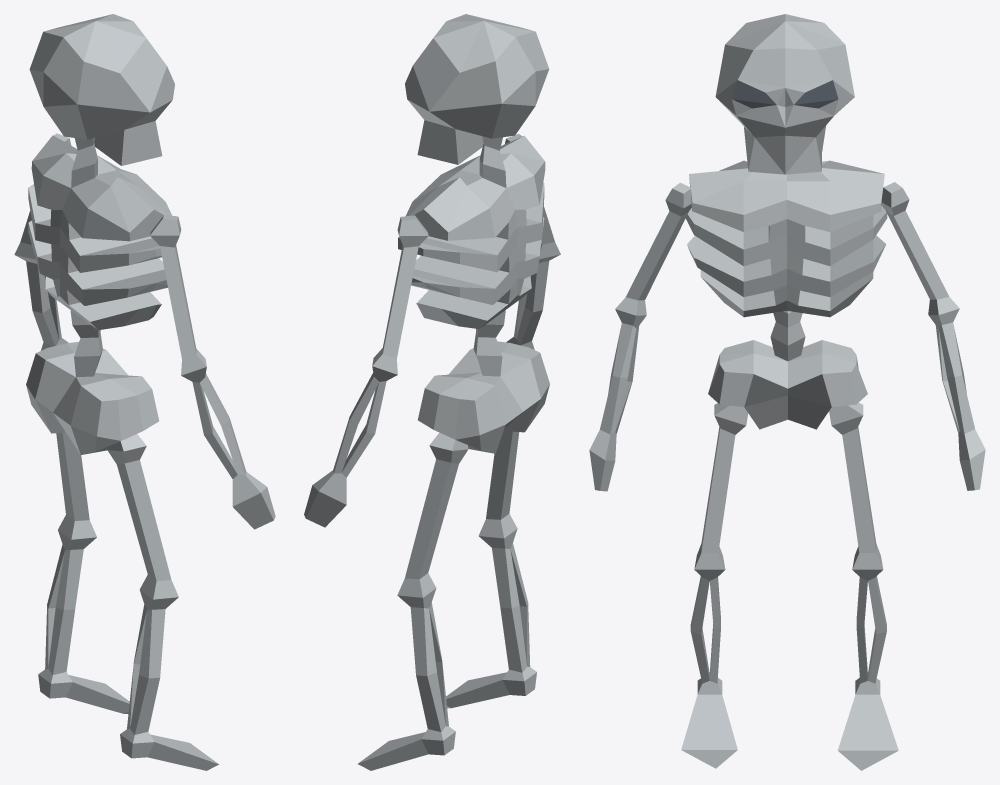
The model's file is Skeleton01.fbx.
The picture shows the model from 3 angles, left to right: view 1: azimuth 30°, elevation 25°; view 2: azimuth 150°, elevation 25°; view 3: azimuth 270°, elevation 25°; orthographic projection. The views are drawn at different scales.
Visible parts, largest first — view 1: Chest, Skull, Skeleton01, Rleg, Lleg, Rarm, Larm; view 2: Chest, Skull, Skeleton01, Lleg, Rleg, Larm, Rarm; view 3: Chest, Skull, Skeleton01, Lleg, Rleg, Larm, Rarm.
Boxes of the visible parts, <box> form: Chest: <box>28,135,171,330</box>; Skull: <box>29,14,174,165</box>; Skeleton01: <box>26,310,159,454</box>; Rleg: <box>107,434,218,770</box>; Lleg: <box>38,432,129,713</box>; Rarm: <box>150,215,275,529</box>; Larm: <box>14,133,71,350</box>; Chest: <box>398,135,545,329</box>; Skull: <box>405,14,549,164</box>; Skeleton01: <box>418,310,549,453</box>; Lleg: <box>358,432,468,770</box>; Rleg: <box>446,431,536,708</box>; Larm: <box>304,215,428,527</box>; Rarm: <box>505,134,560,349</box>; Chest: <box>685,160,887,317</box>; Skull: <box>715,14,854,174</box>; Skeleton01: <box>708,311,867,429</box>; Lleg: <box>829,402,898,770</box>; Rleg: <box>681,403,748,768</box>; Larm: <box>881,182,985,490</box>; Rarm: <box>589,182,691,491</box>.
Bounding box in the file's own units: 39.53 × 205 × 103.
